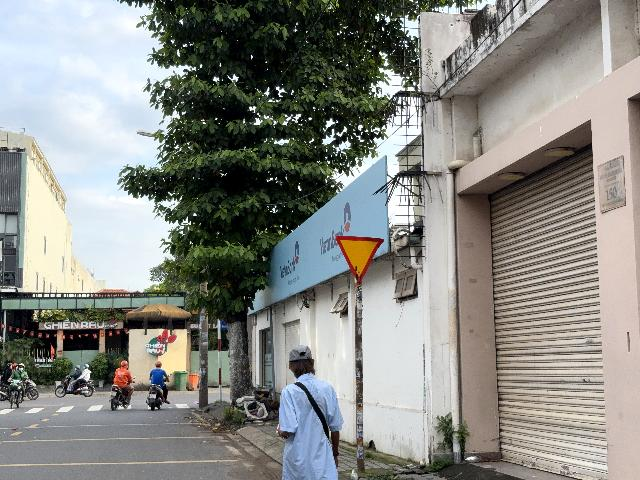giao-nhau-voi-duong-uu-tien: (335, 235, 384, 283)
